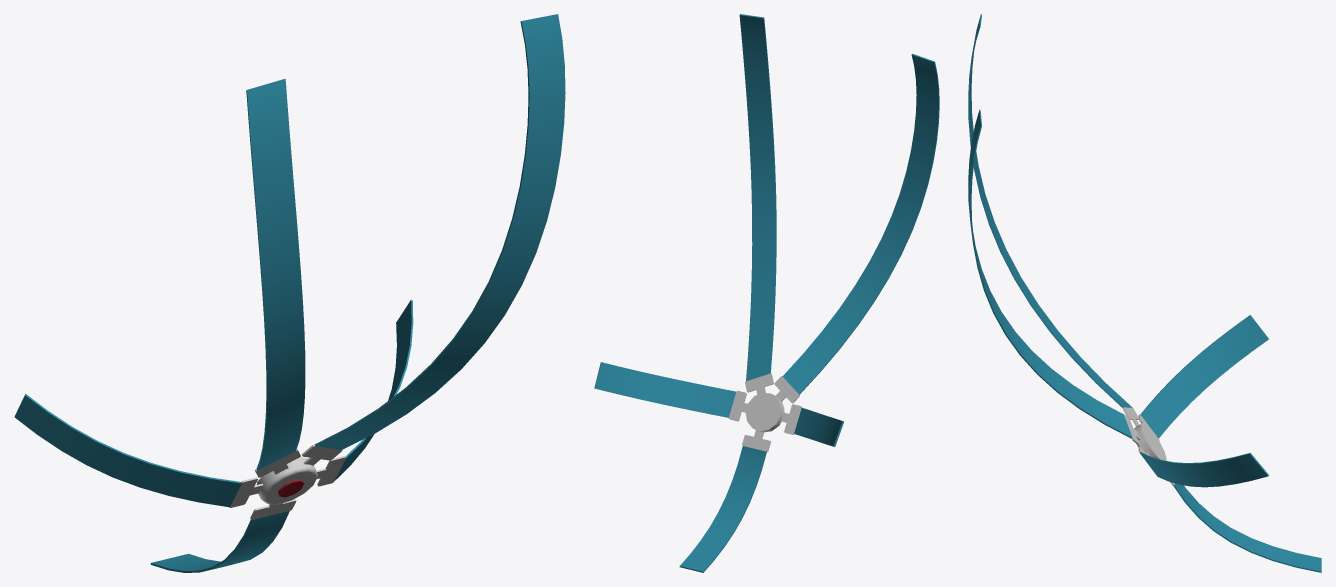
File: Safety_belt_optimized.obj
3 views of the same model, side by side, from view 1: azimuth 30°, elevation 25°; view 2: azimuth 150°, elevation 25°; view 3: azimuth 270°, elevation 25° (orthographic). The views are drawn at different scales.
Visible parts, largest first — view 1: Body25; view 2: Body25; view 3: Body25.
Boxes of the visible parts, left/top/right/bottom form: Body25: left=14, top=14, right=565, bottom=572; Body25: left=594, top=14, right=939, bottom=572; Body25: left=968, top=14, right=1321, bottom=572.
Bounding box in the file's own units: 439 × 737 × 473.
